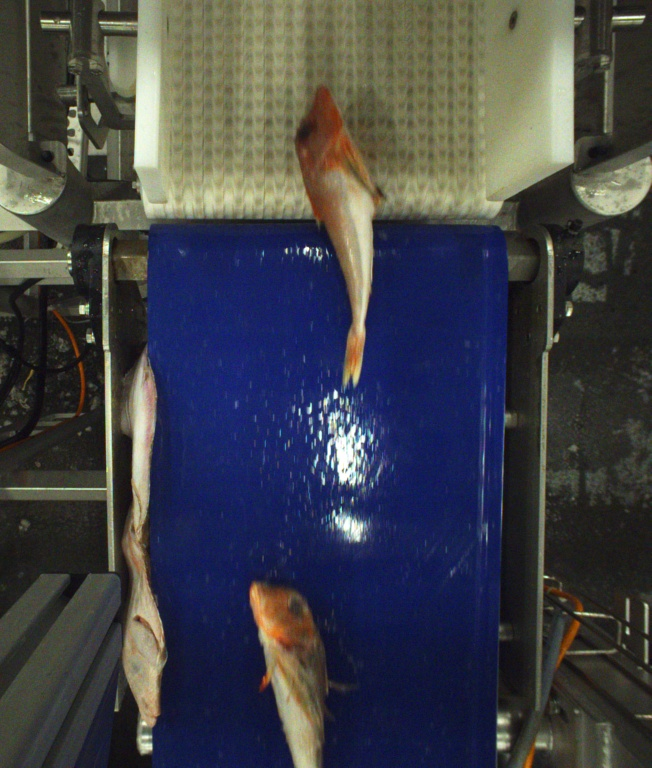GUU: (248, 580, 351, 768)
